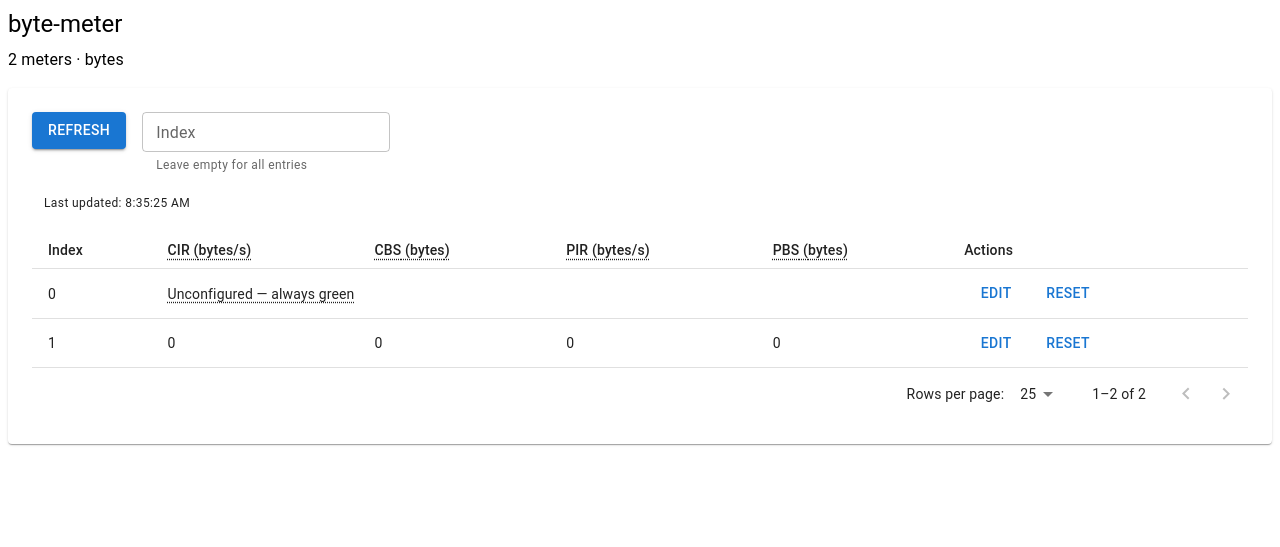
Test: indexed resources › distinguishes unset meters from explicit zero rates and requires an explicit new configuration
Expected: the text "Unconfigured — always green" is shown, [168,286,354,302]
Expected: the text "0" is shown 4 times, [152,318,358,368]; [358,318,550,368]; [550,318,757,368]; [757,318,948,368]
Hover over the text "CIR (bytes/s)".
mouse_move(179, 250)  # box [168,242,251,258]
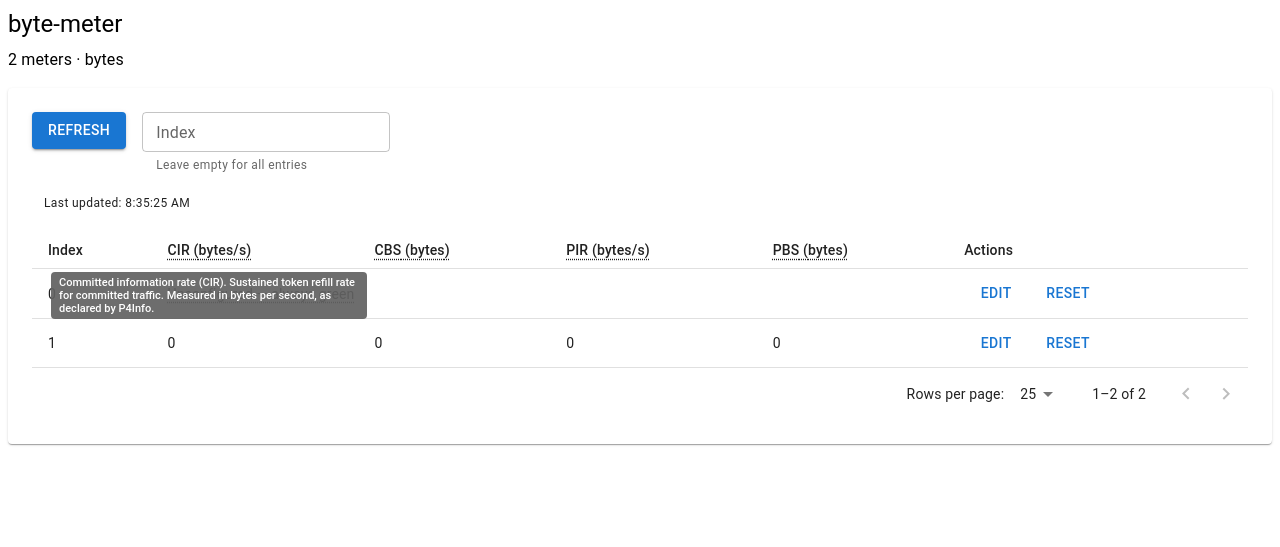
Expected: the tooltip shows "Committed information rate", [59,276,355,315]
Expected: the tooltip shows "bytes per second", [59,276,355,315]
Move the pointer off the text "CIR (bytes/s)", box [168,242,251,258]
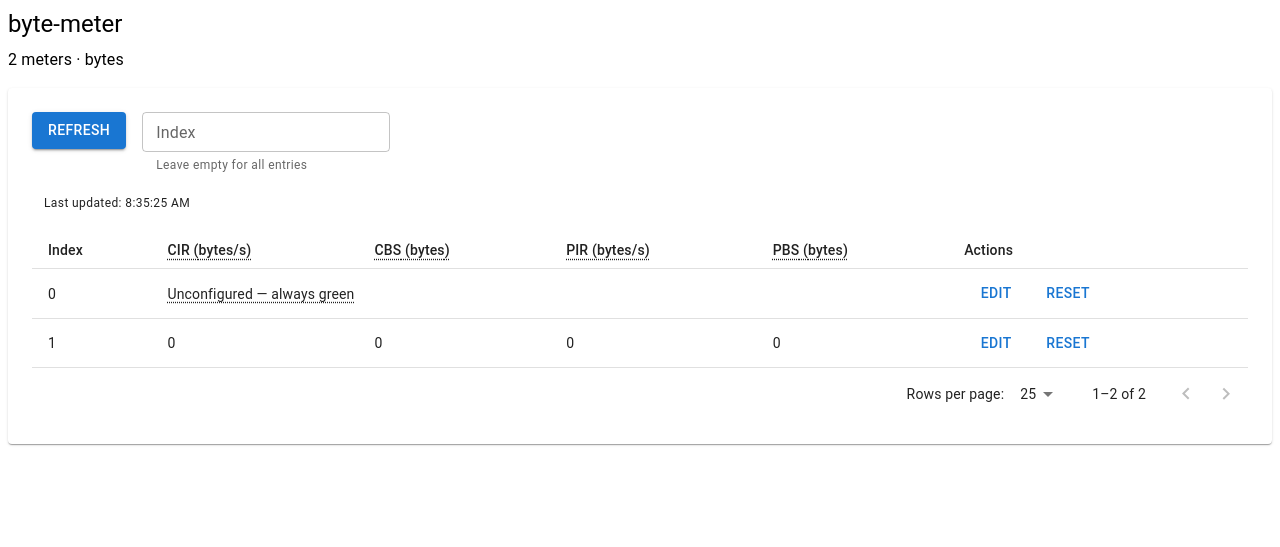
Click the button "Edit" in the row of "Unconfigured — always green".
click(996, 294)  # box [964,275,1028,312]
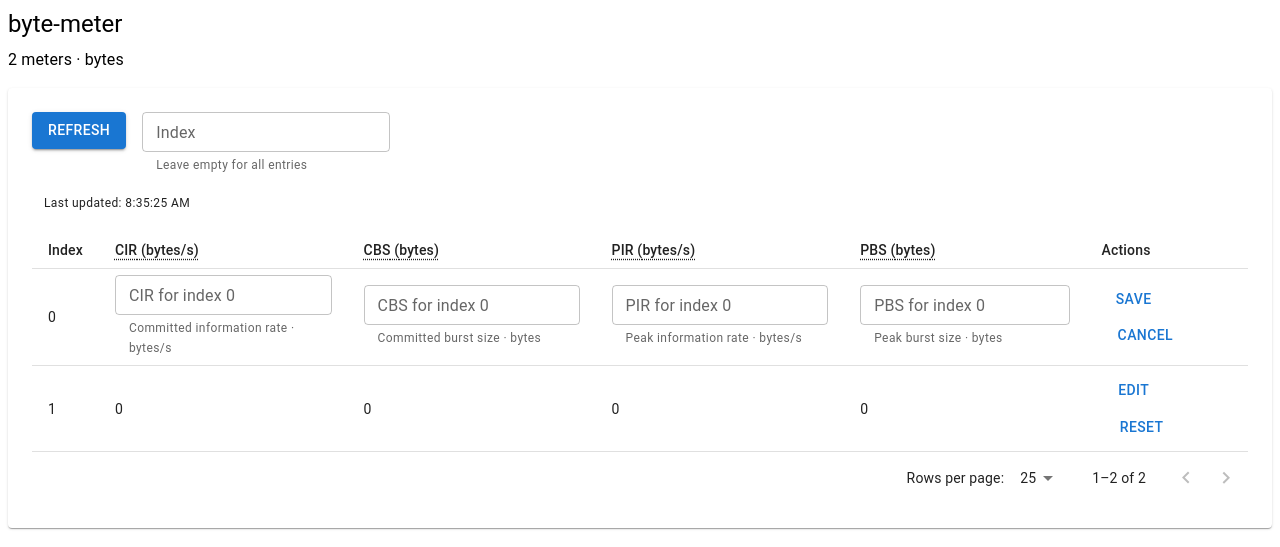
Expected: the text "Committed burst size · bytes" is shown, [378,329,566,349]
Click the button "Save".
click(1134, 299)  # box [1102,281,1166,317]
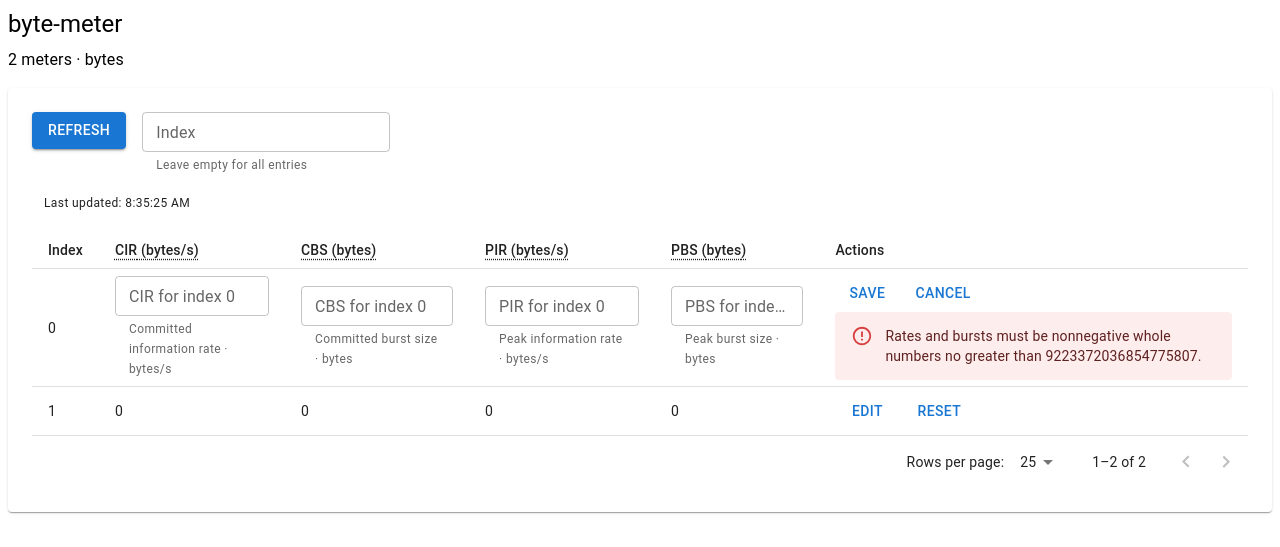
Expected: the message shows "nonnegative whole numbers", [885,328,1202,364]
Click the button "Cancel".
click(943, 294)  # box [907,275,979,312]
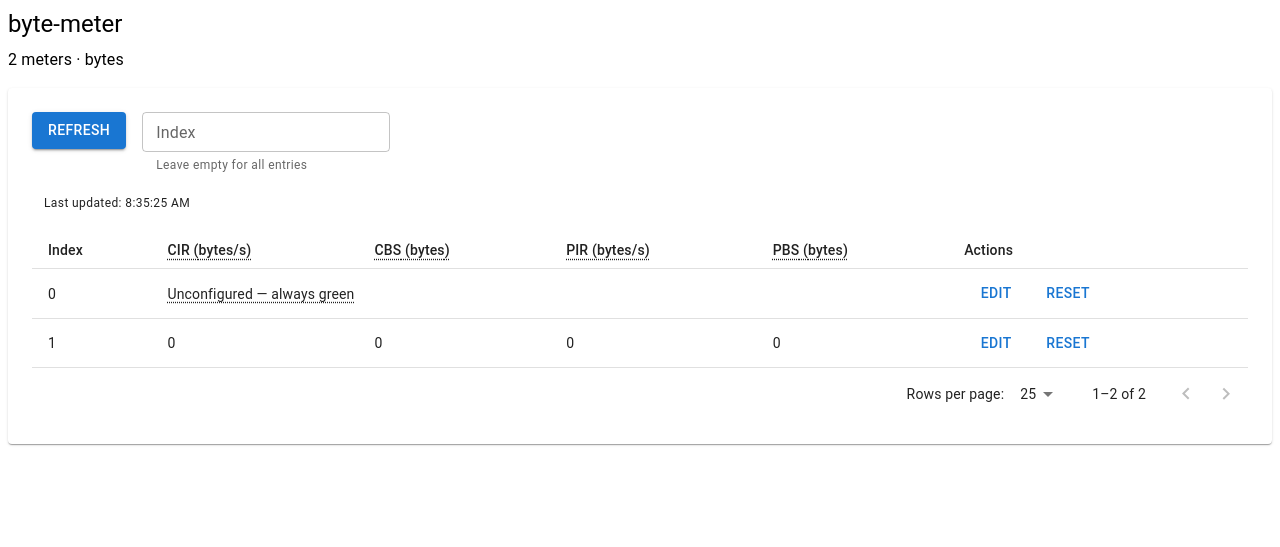
Click the 2nd button "Reset".
click(1068, 343)  # box [1036,325,1100,361]
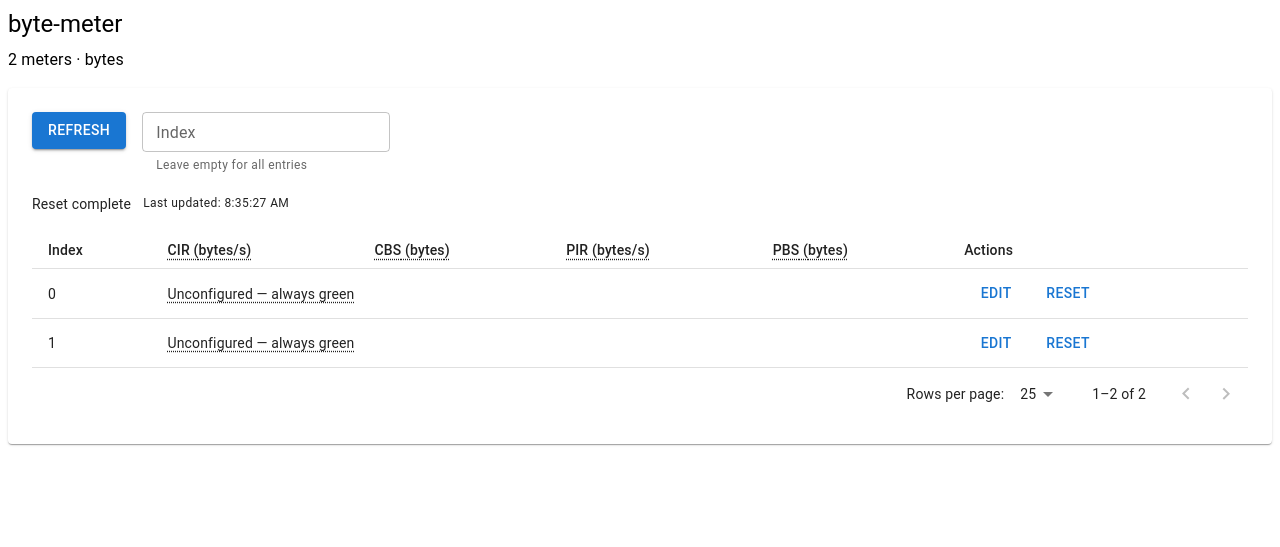
Expected: the text "Reset complete" is shown, [32,194,131,214]
Expected: the text "Unconfigured — always green" is shown 2 times, [168,286,354,302]; [168,335,354,351]
